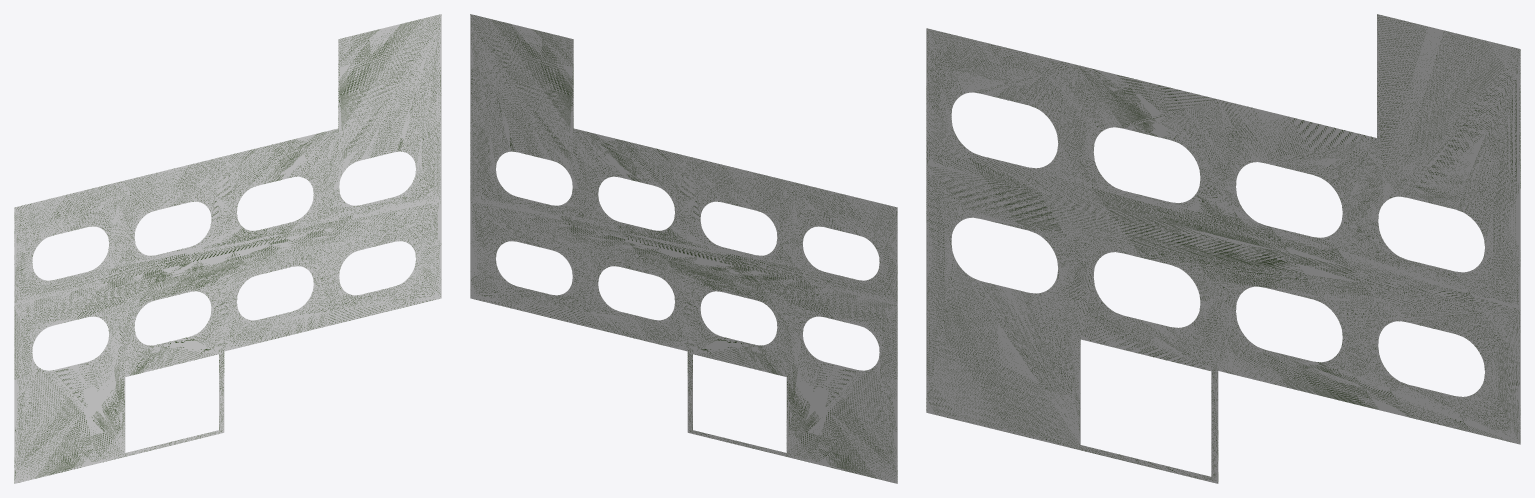
File: original-46.obj
The picture shows the model from 3 angles, left to right: view 1: azimuth 30°, elevation 25°; view 2: azimuth 150°, elevation 25°; view 3: azimuth 330°, elevation 25°; orthographic projection. The views are drawn at different scales.
Visible parts, largest first — view 1: mesh9/mesh9-geometry/material_4#mesh9-geometry; view 2: mesh9/mesh9-geometry/material_4#mesh9-geometry; view 3: mesh9/mesh9-geometry/material_4#mesh9-geometry.
Part boxes in pixels (x1,y1,x2,y2): mesh9/mesh9-geometry/material_4#mesh9-geometry: (14, 14, 441, 483); mesh9/mesh9-geometry/material_4#mesh9-geometry: (470, 14, 897, 483); mesh9/mesh9-geometry/material_4#mesh9-geometry: (926, 14, 1520, 483).
Bounding box in the file's own units: 0.5068 × 0.4146 × 0.
